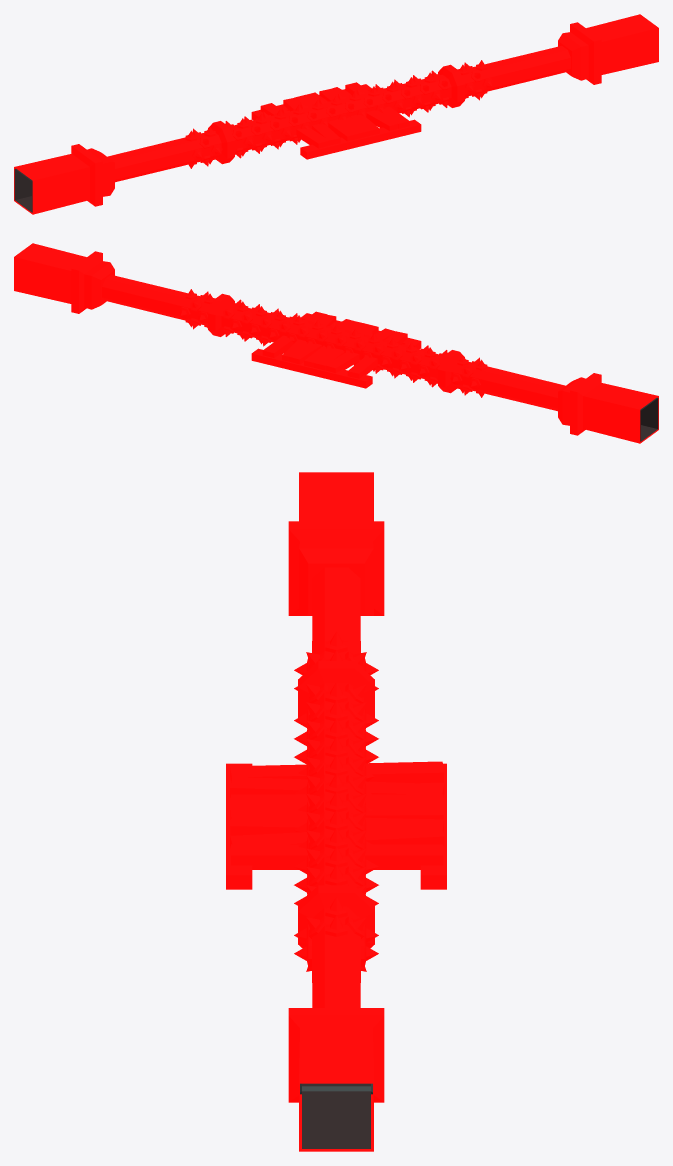
Rendered from BreakableBoard.fbx.
3 renders of one model, top to bottom at view 1: azimuth 30°, elevation 25°; view 2: azimuth 150°, elevation 25°; view 3: azimuth 270°, elevation 25°, orthographic. The views are drawn at different scales.
Parts seen in each view (by area): view 1: Pole001, Planks001, Pole; view 2: Pole001, Planks001, Pole; view 3: Pole001, Planks001, Pole.
Boxes of the visible parts, <box> form: Pole001: <box>14,14,658,214</box>; Planks001: <box>251,82,421,159</box>; Pole: <box>14,168,32,212</box>; Pole001: <box>14,243,658,443</box>; Planks001: <box>251,311,421,388</box>; Pole: <box>640,397,658,441</box>; Pole001: <box>288,472,384,1151</box>; Planks001: <box>226,761,446,889</box>; Pole: <box>300,1083,372,1148</box>.
Bounding box in the file's own units: 3343 × 222 × 512.
